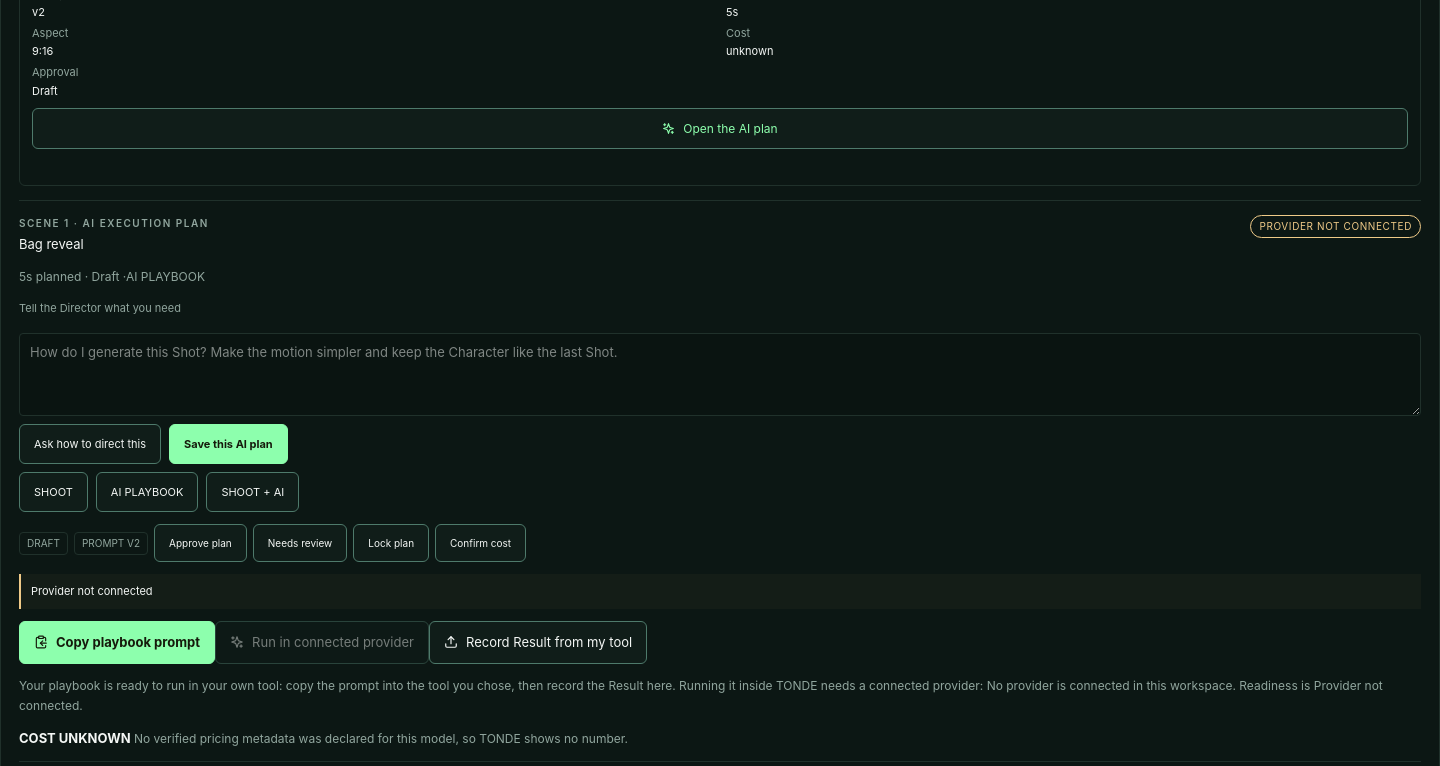
Test: AI Creation surface › passes the creator direction through and reports what was honoured
(page scrolled)
Replace the text in the text box labelled "Tell the Director what you need" with "Make the motion simpler and keep the Character exactly like the last Shot.": (720, 374) [19, 333, 1421, 416]
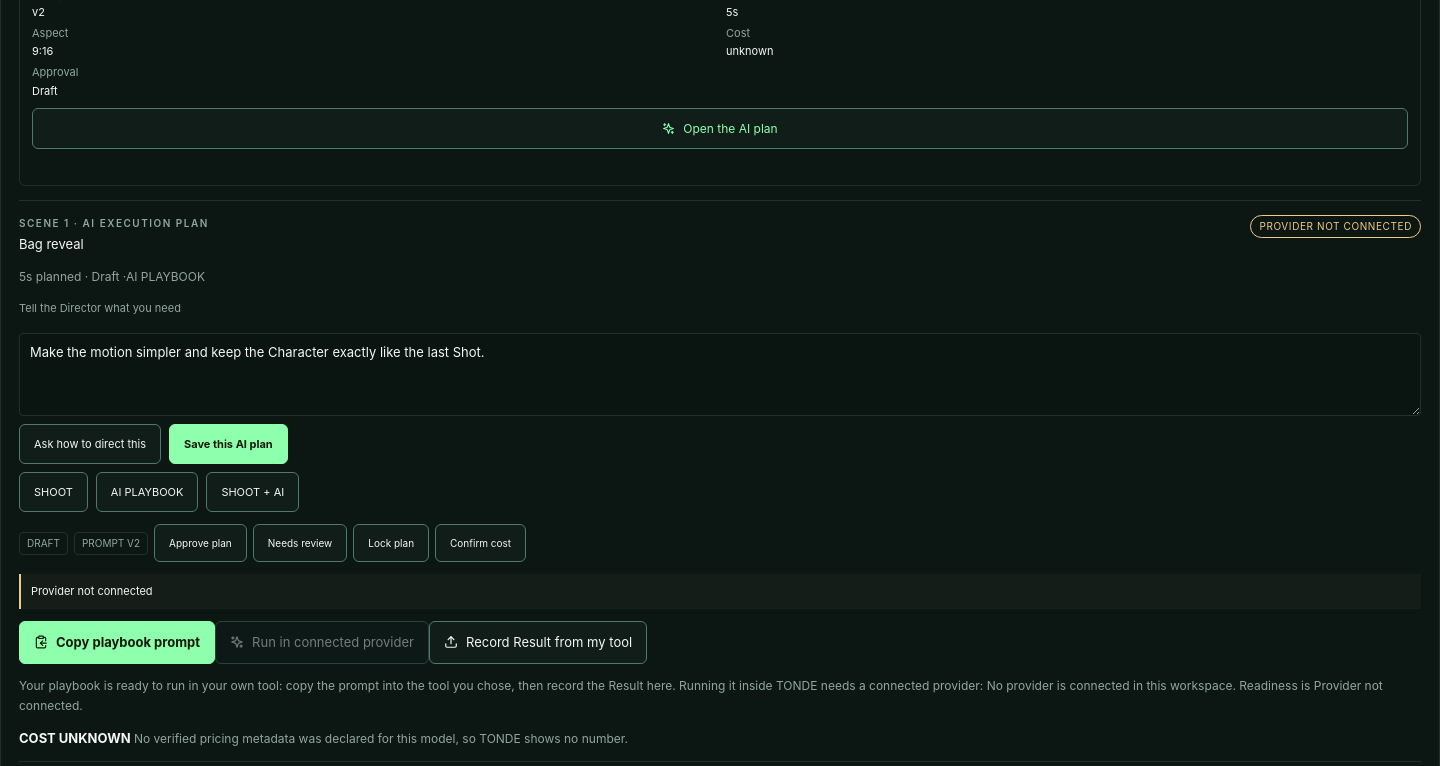
Click the button "Ask how to direct this": (90, 444) [19, 424, 161, 464]
(page scrolled)
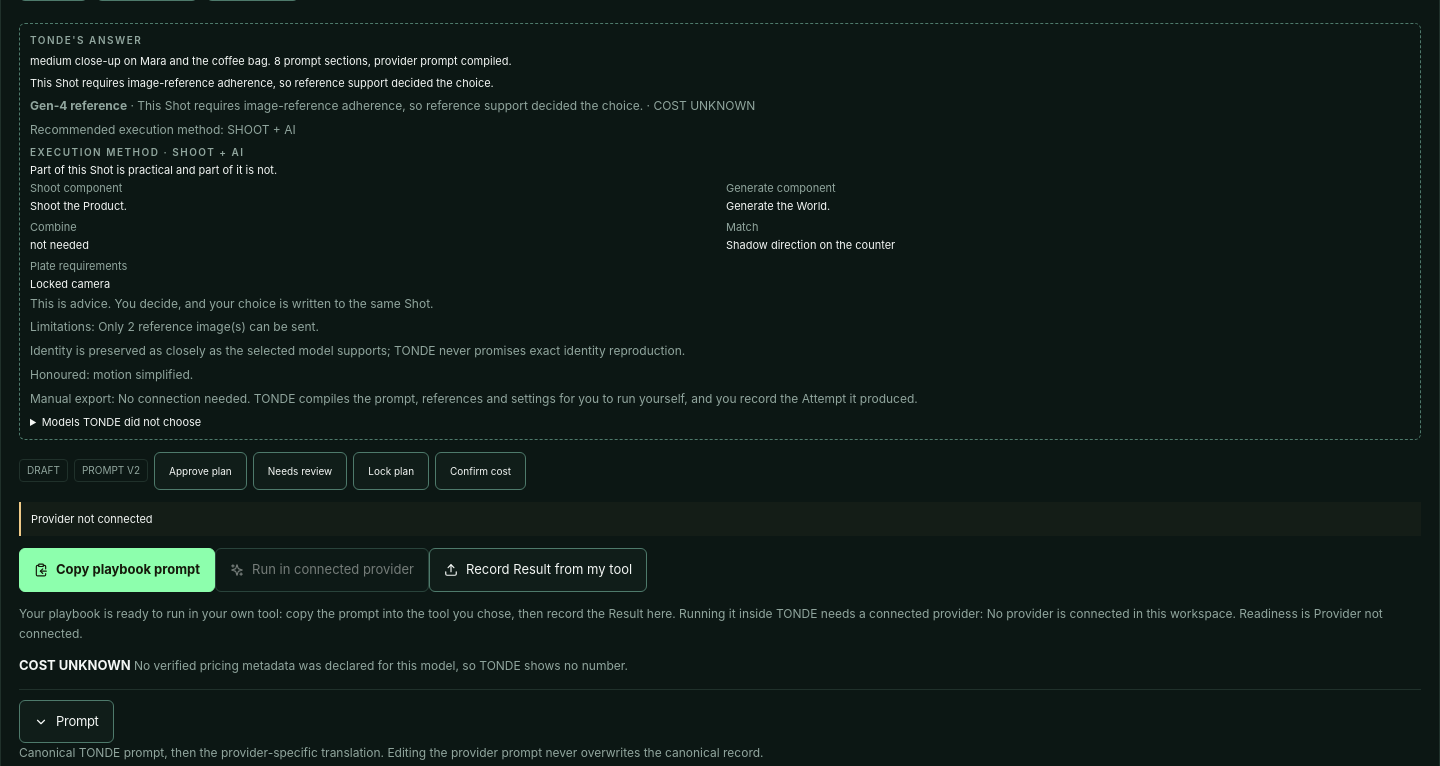
Result: the text "Honoured: motion simplified." is shown at [30, 367, 193, 382]
